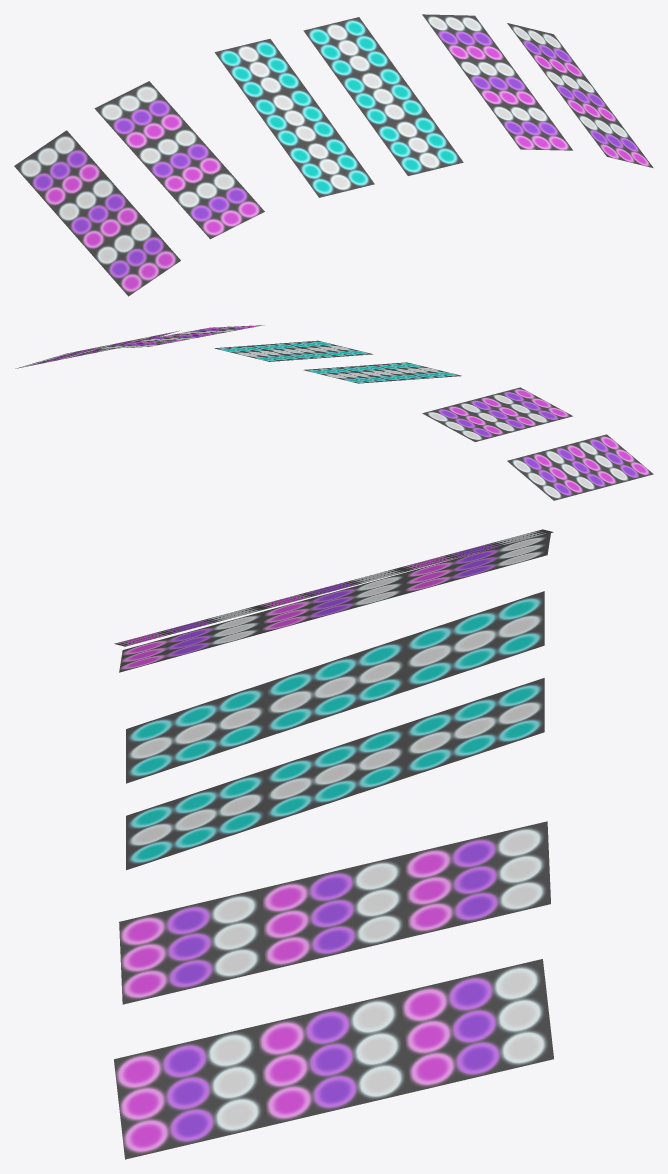
File: Light_Panel.fbx
3 views of the same model, one above another, from view 1: azimuth 30°, elevation 25°; view 2: azimuth 150°, elevation 25°; view 3: azimuth 270°, elevation 25° (orthographic). The views are drawn at different scales.
Visible parts, largest first — view 1: Light_Panel; view 2: Light_Panel; view 3: Light_Panel.
Boxes of the visible parts, <box> form: Light_Panel: <box>14,14,653,296</box>; Light_Panel: <box>15,325,653,500</box>; Light_Panel: <box>114,529,553,1159</box>.
Size of the model in its own units: 24.39 by 5.22 by 8.61.
